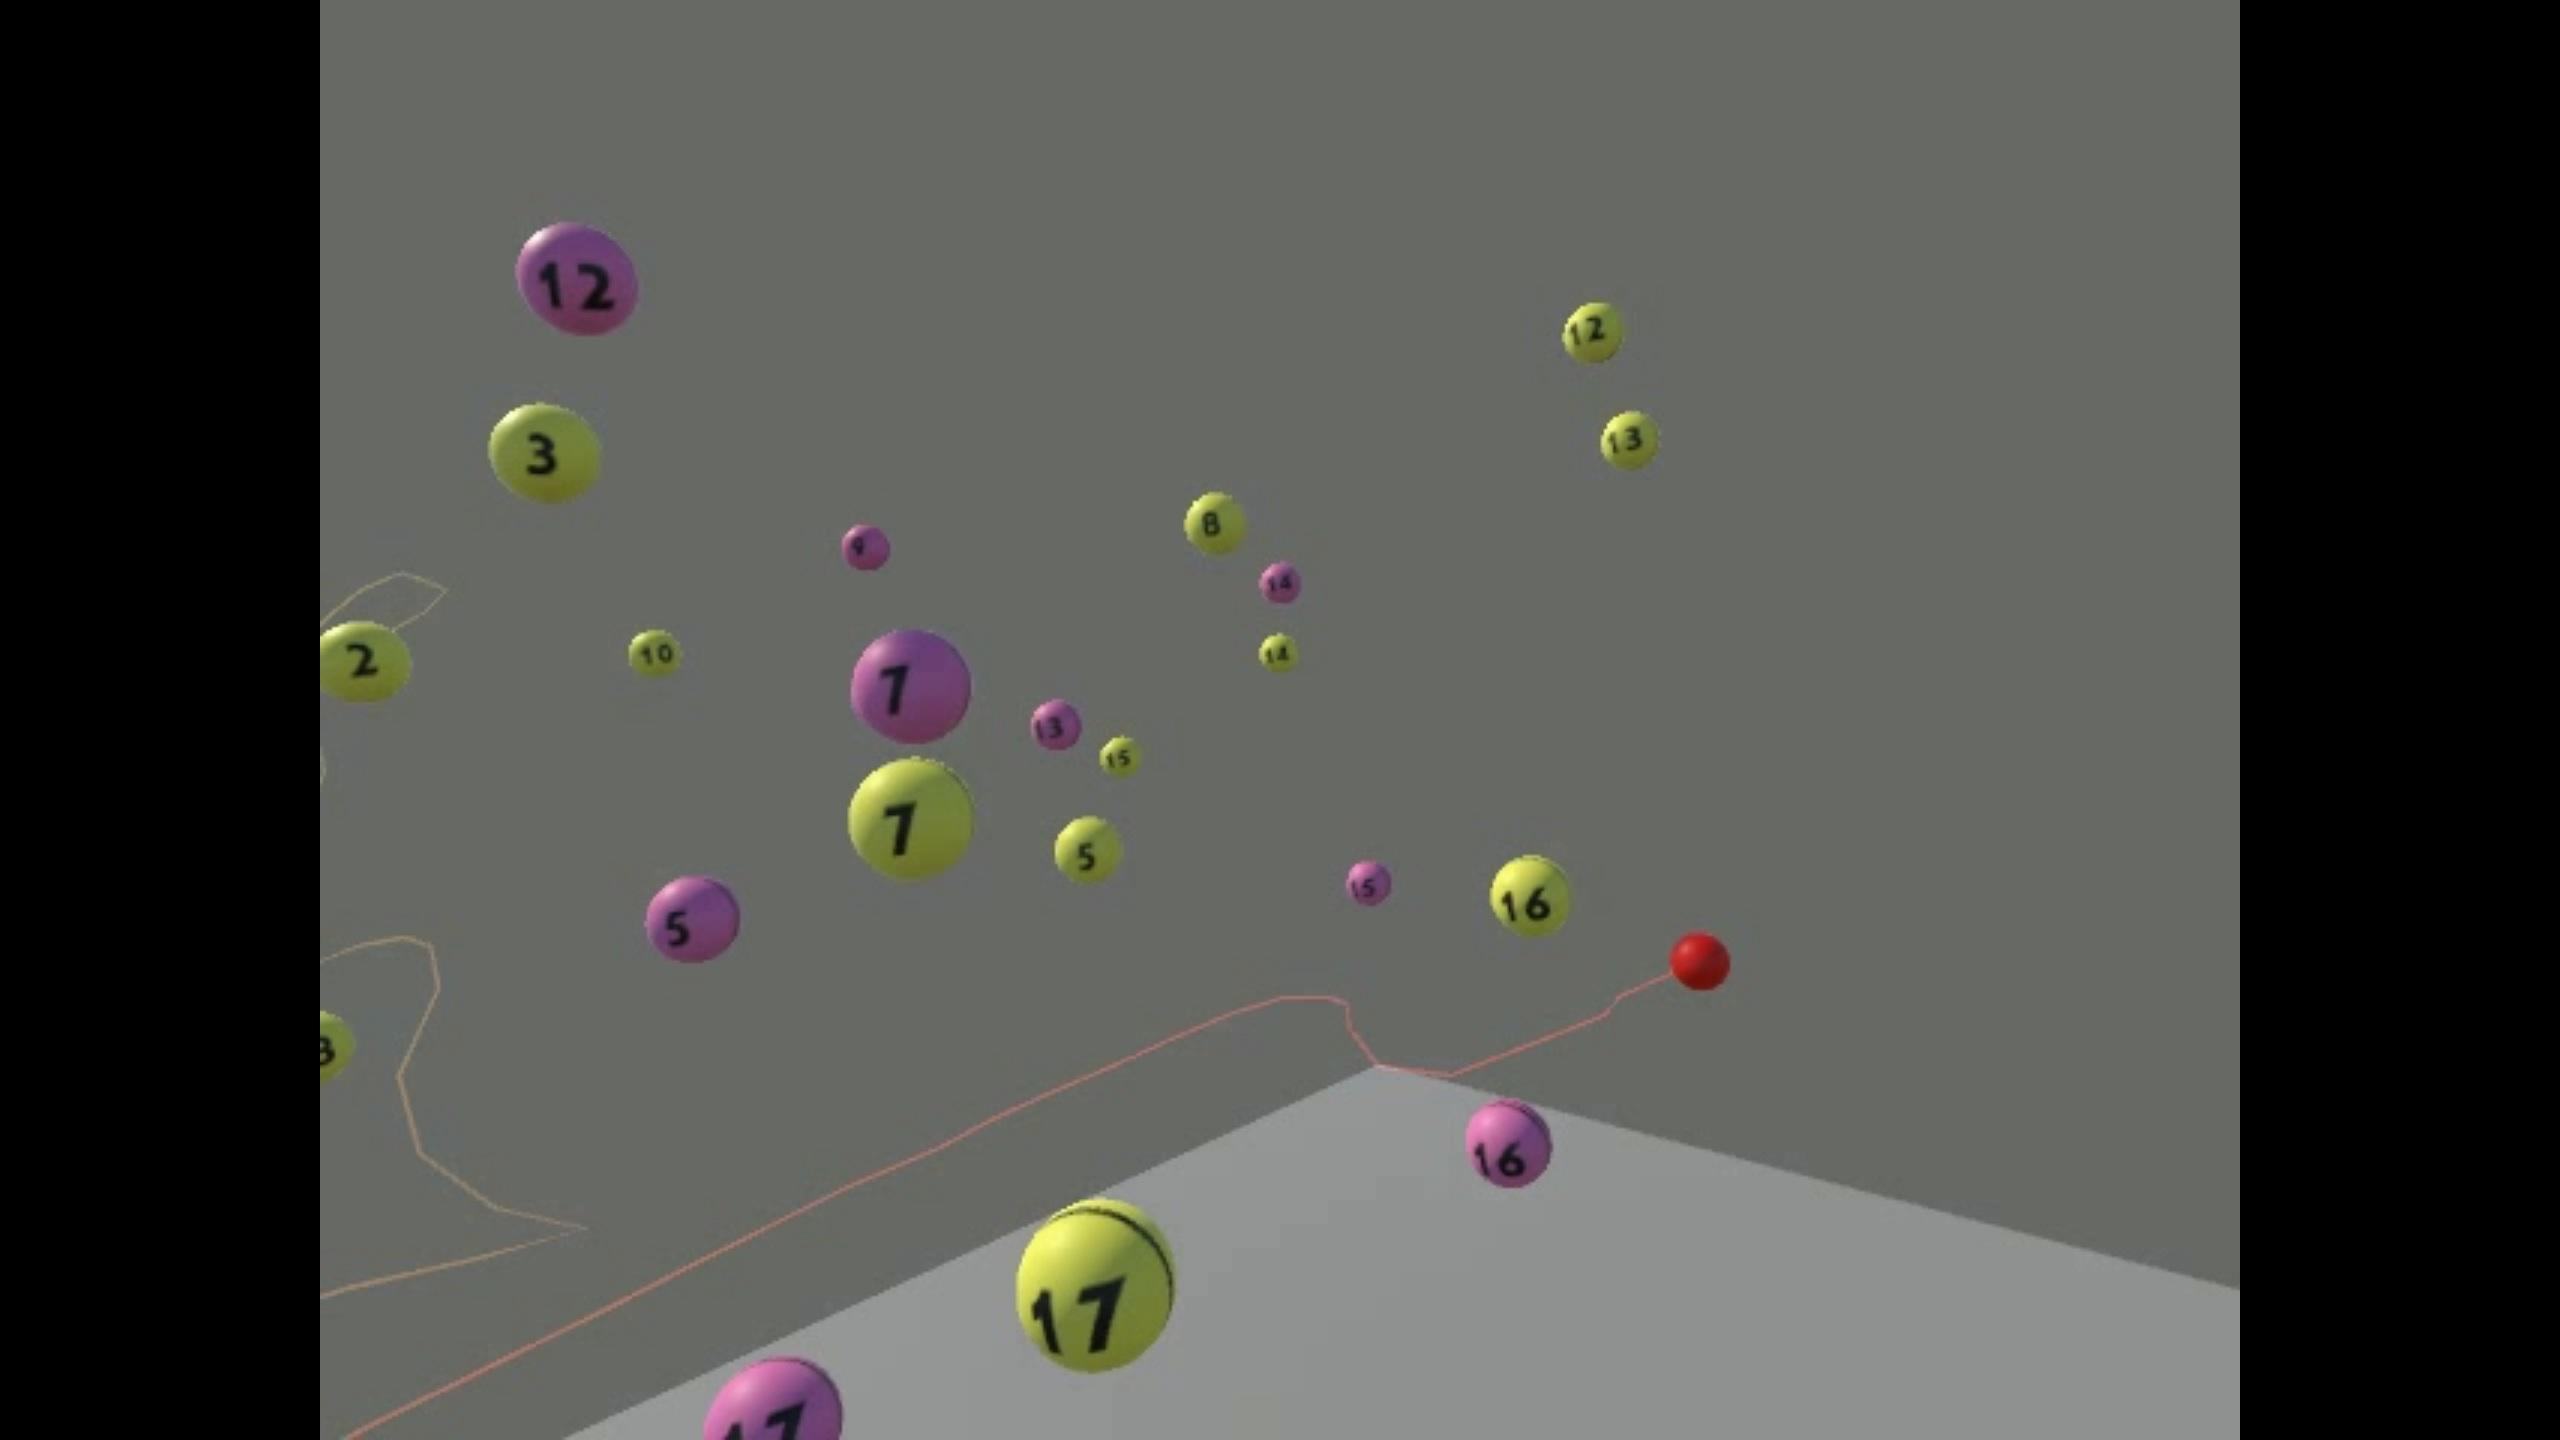ball_02_yellow: (322, 622, 411, 702)
ball_03_yellow: (489, 404, 603, 501)
ball_05_pink: (645, 877, 740, 964)
ball_05_yellow: (1055, 818, 1127, 888)
ball_07_pink: (851, 629, 969, 742)
ball_07_yellow: (847, 758, 972, 879)
ball_08_yellow: (1185, 492, 1248, 554)
ball_09_pink: (844, 524, 890, 568)
ball_10_yellow: (628, 628, 684, 677)
ball_12_pink: (515, 222, 636, 334)
ball_12_yellow: (1561, 304, 1626, 362)
ball_13_pink: (1032, 698, 1081, 751)
ball_13_yellow: (1602, 410, 1662, 468)
ball_14_pink: (1259, 563, 1298, 603)
ball_14_yellow: (1257, 631, 1298, 670)
ball_15_pink: (1347, 860, 1393, 909)
ball_15_yellow: (1097, 737, 1145, 781)
ball_16_pink: (1466, 1099, 1551, 1187)
ball_16_yellow: (1489, 855, 1577, 941)
ball_17_yellow: (1015, 1199, 1173, 1371)
ball_unknown: (703, 1357, 842, 1440), (320, 1009, 357, 1085)
user_cursor: (1670, 932, 1730, 988)
